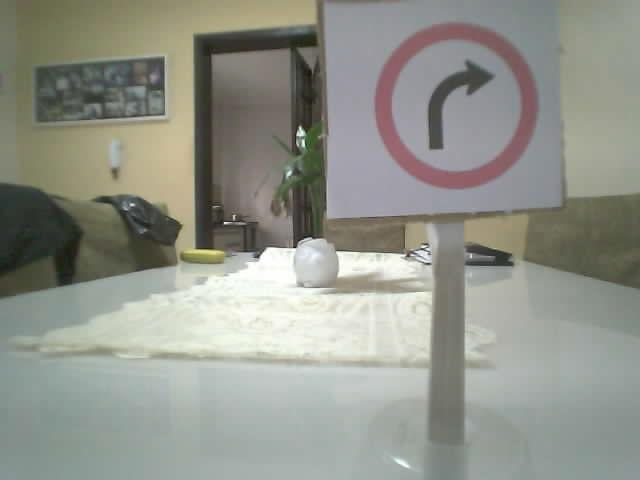R-25b_direita: (373, 23, 537, 188)
